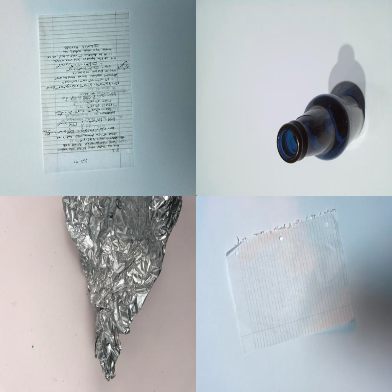glass: (276, 81, 366, 164)
metal: (61, 196, 182, 381)
paper: (225, 208, 356, 354), (38, 11, 133, 172)
